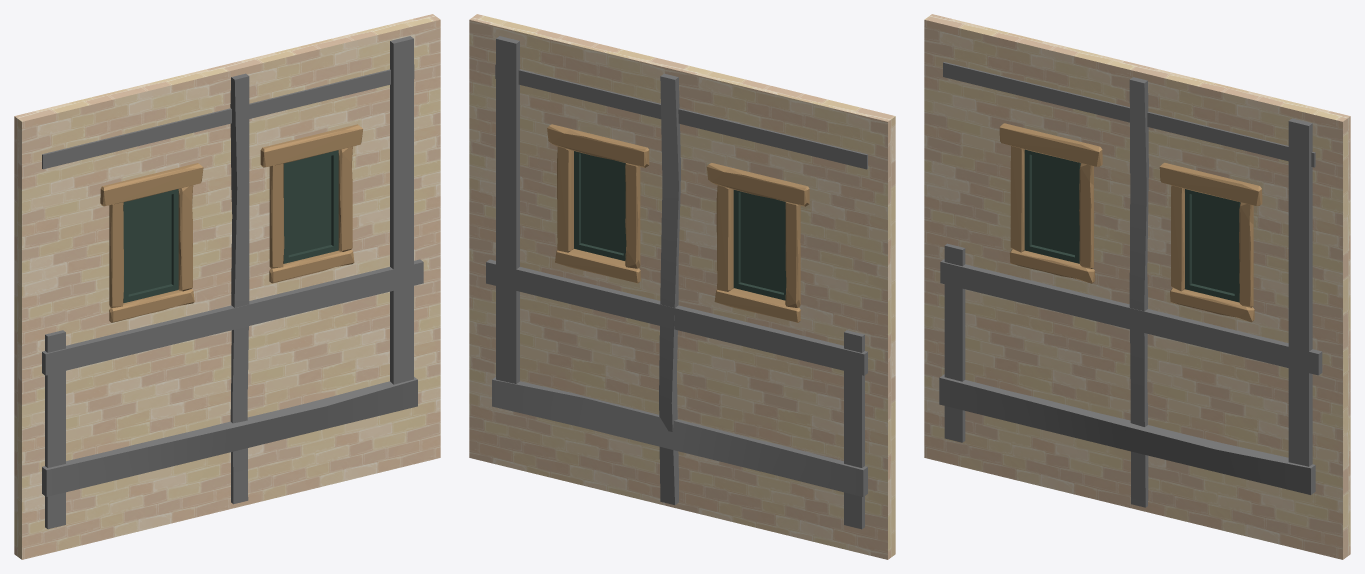
File: SM_wall_window_04.fbx
3 renders of one model, left to right at view 1: azimuth 30°, elevation 25°; view 2: azimuth 150°, elevation 25°; view 3: azimuth 330°, elevation 25°, orthographic.
Parts seen in each view (by area): view 1: Object33037; view 2: Object33037; view 3: Object33037.
Part boxes in pixels (x1,y1,x2,y2): Object33037: [14, 14, 440, 559]; Object33037: [469, 14, 895, 559]; Object33037: [924, 14, 1350, 559].
Size of the model in its own units: 170 by 170 by 14.51.
